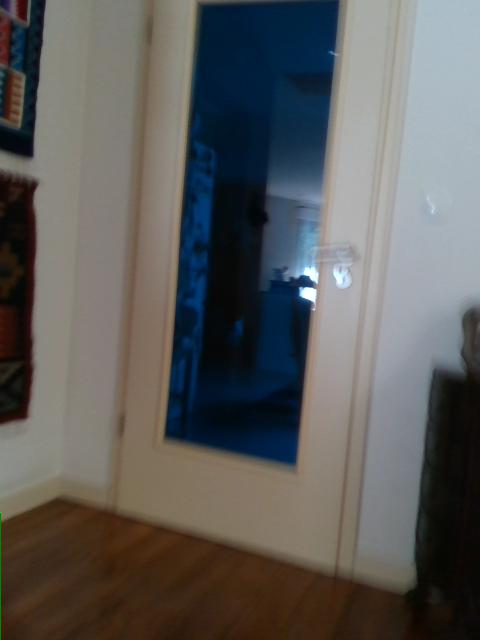door: (107, 2, 415, 580)
